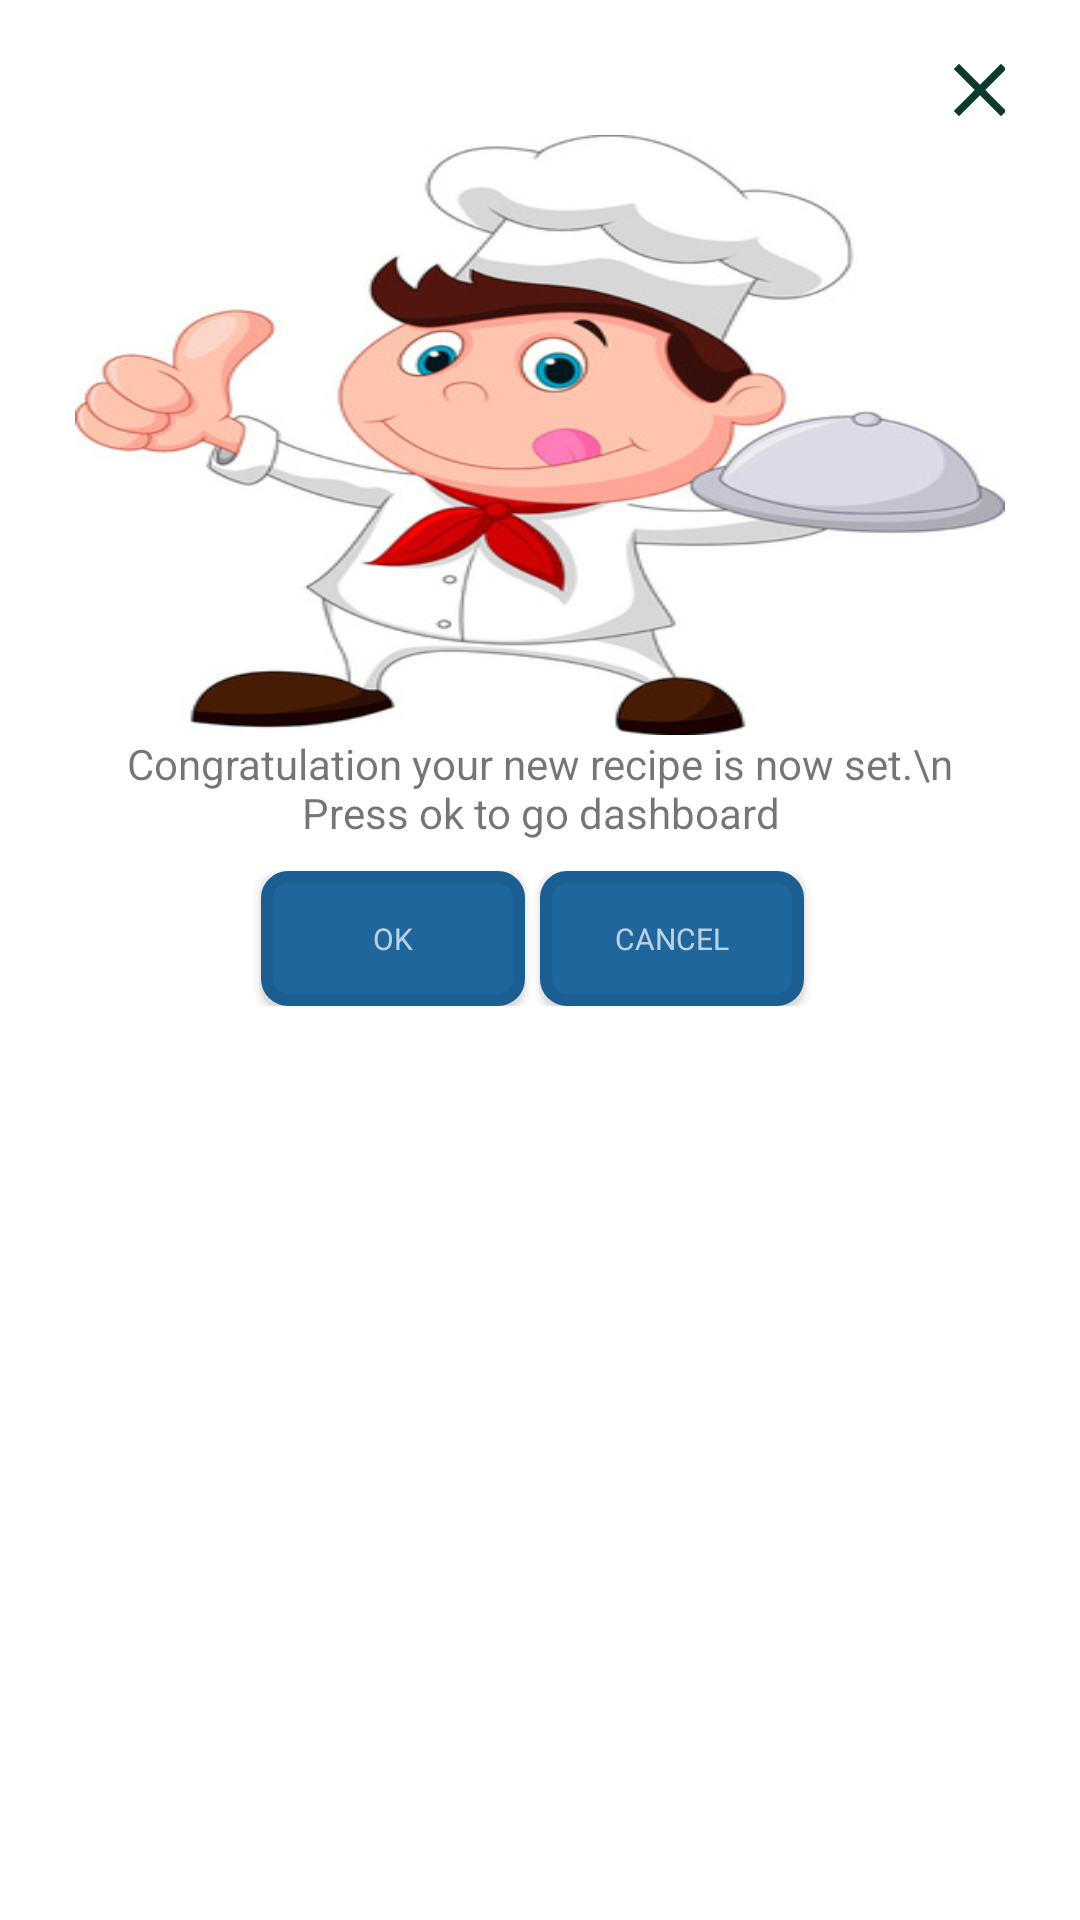

Named icons in this screenshot (1080 x 1920) and their bounding boxes, (x1, y1, x2, y2):
close: (954, 64, 1005, 116)
